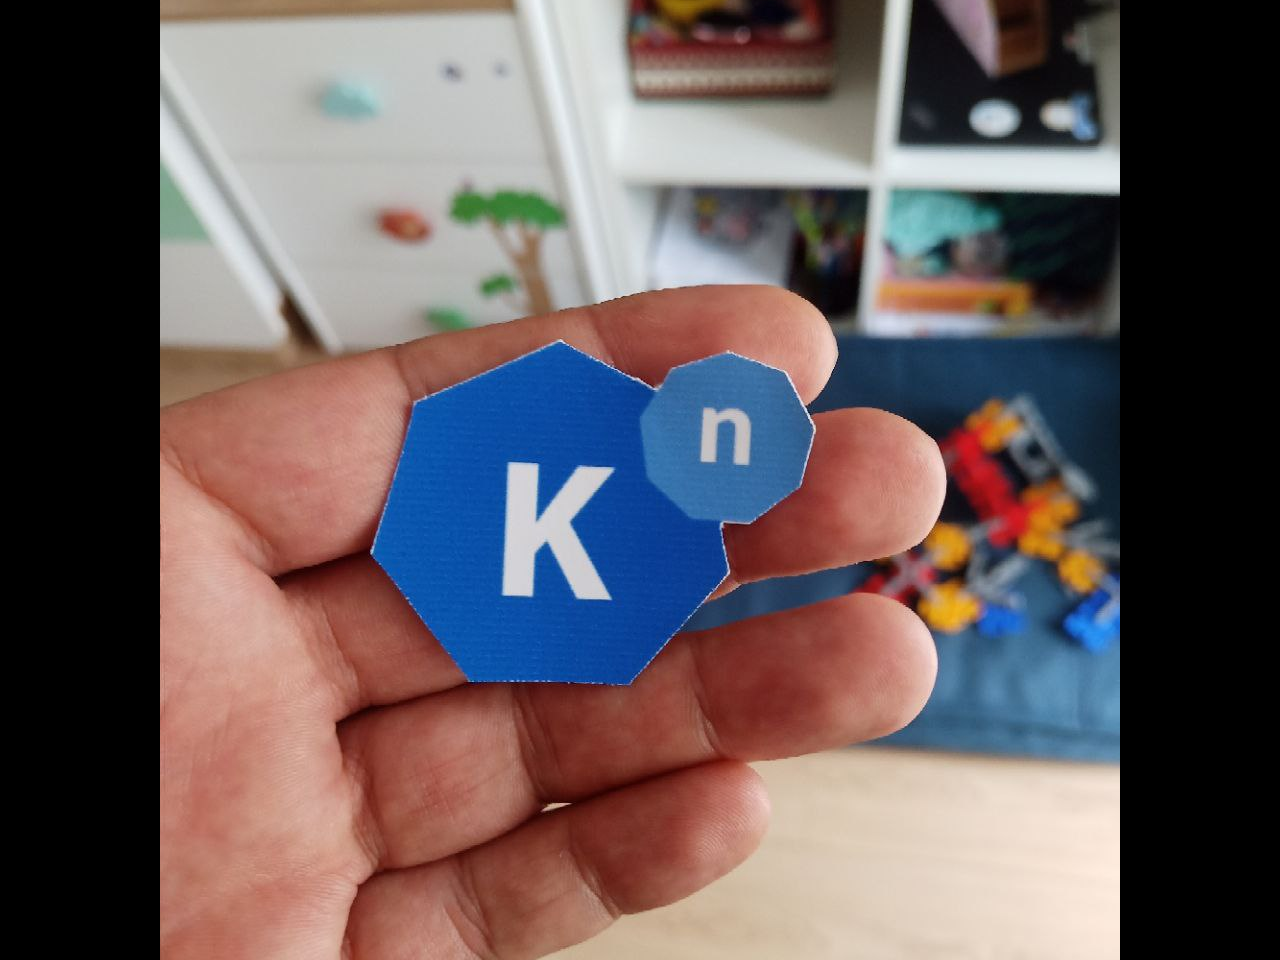knative: (368, 338, 816, 680)
